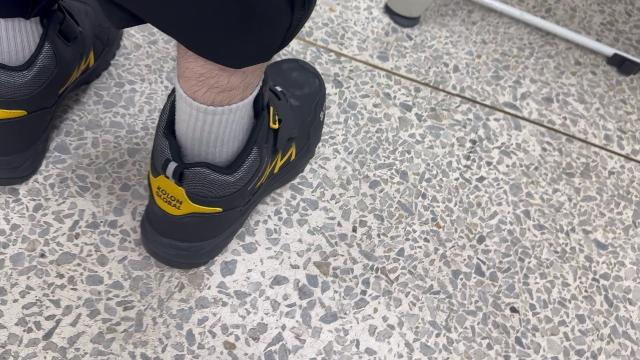shoe_worn: (142, 69, 330, 269), (6, 3, 121, 188)
